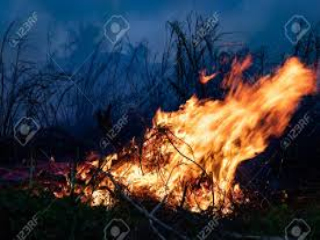fire: (87, 56, 301, 211)
